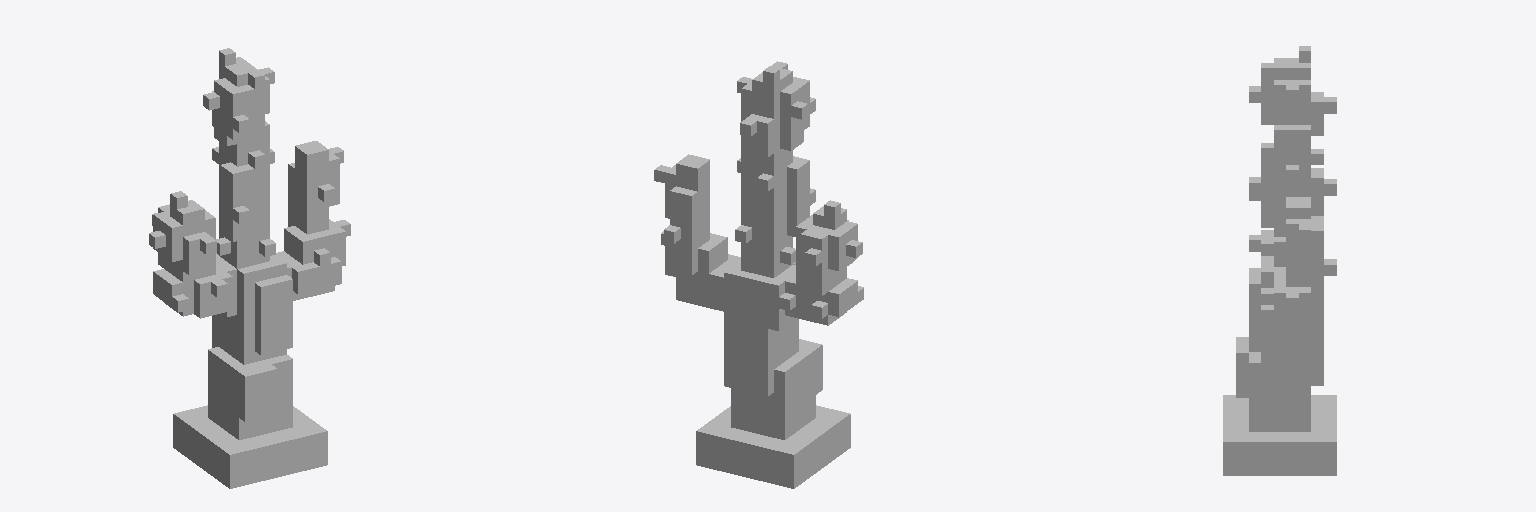
The model's file is Lamp.obj.
3 views of the same model, side by side, from view 1: azimuth 30°, elevation 25°; view 2: azimuth 150°, elevation 25°; view 3: azimuth 270°, elevation 25° (orthographic).
Parts seen in each view (by area): view 1: Untitled.002, Untitled.004, Untitled.003, Untitled, Untitled.001; view 2: Untitled.002, Untitled.004, Untitled.003, Untitled, Untitled.001; view 3: Untitled.002, Untitled.004, Untitled.003, Untitled, Untitled.001.
Part boxes in pixels (bbox=[...]): Untitled.002: bbox=[153, 57, 345, 439]; Untitled.004: bbox=[173, 405, 327, 488]; Untitled.003: bbox=[149, 48, 350, 312]; Untitled: bbox=[160, 74, 341, 414]; Untitled.001: bbox=[169, 113, 330, 419]; Untitled.002: bbox=[665, 66, 857, 439]; Untitled.004: bbox=[696, 405, 850, 488]; Untitled.003: bbox=[654, 61, 863, 318]; Untitled: bbox=[665, 92, 857, 423]; Untitled.001: bbox=[665, 91, 816, 402]; Untitled.002: bbox=[1236, 58, 1323, 431]; Untitled.004: bbox=[1223, 395, 1336, 475]; Untitled.003: bbox=[1249, 46, 1336, 308]; Untitled: bbox=[1249, 96, 1323, 419]; Untitled.001: bbox=[1286, 173, 1323, 397].
Bounding box in the file's own units: 1.8 × 3.5 × 0.9.